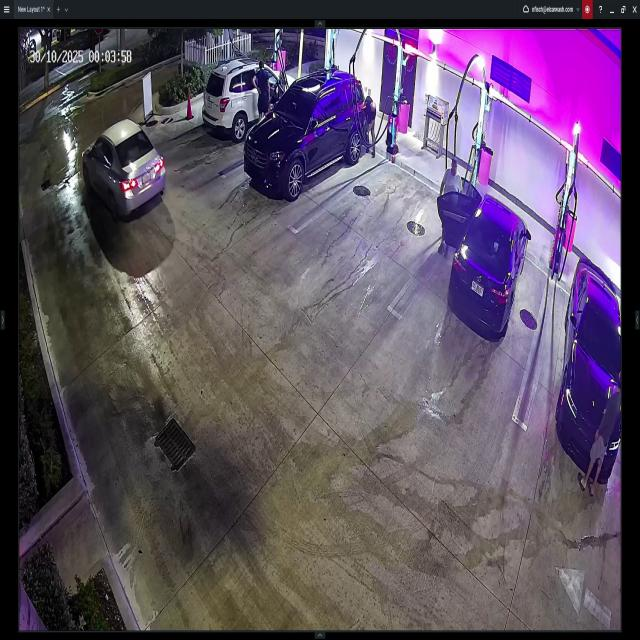Car: (245, 67, 374, 202), (553, 251, 622, 480), (440, 176, 531, 334), (82, 118, 168, 218), (203, 60, 294, 141)
